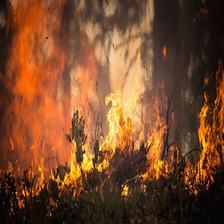fire: (8, 12, 219, 210)
